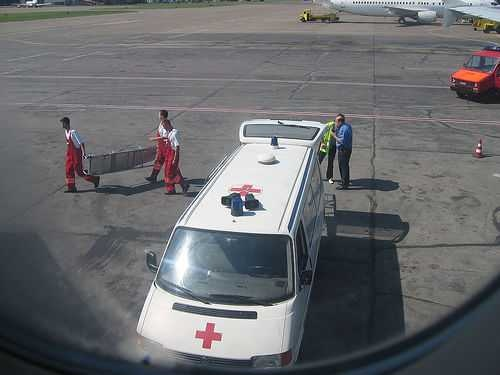Ambulance: (148, 117, 320, 375)
